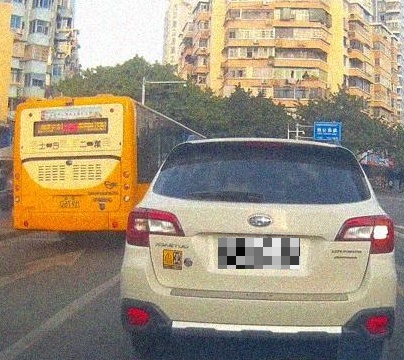L_light: (126, 206, 185, 247)
R_light: (333, 213, 395, 253)
T_light: (246, 141, 284, 148)
day-right: (119, 137, 397, 360)
plate_1: (218, 238, 300, 269)
